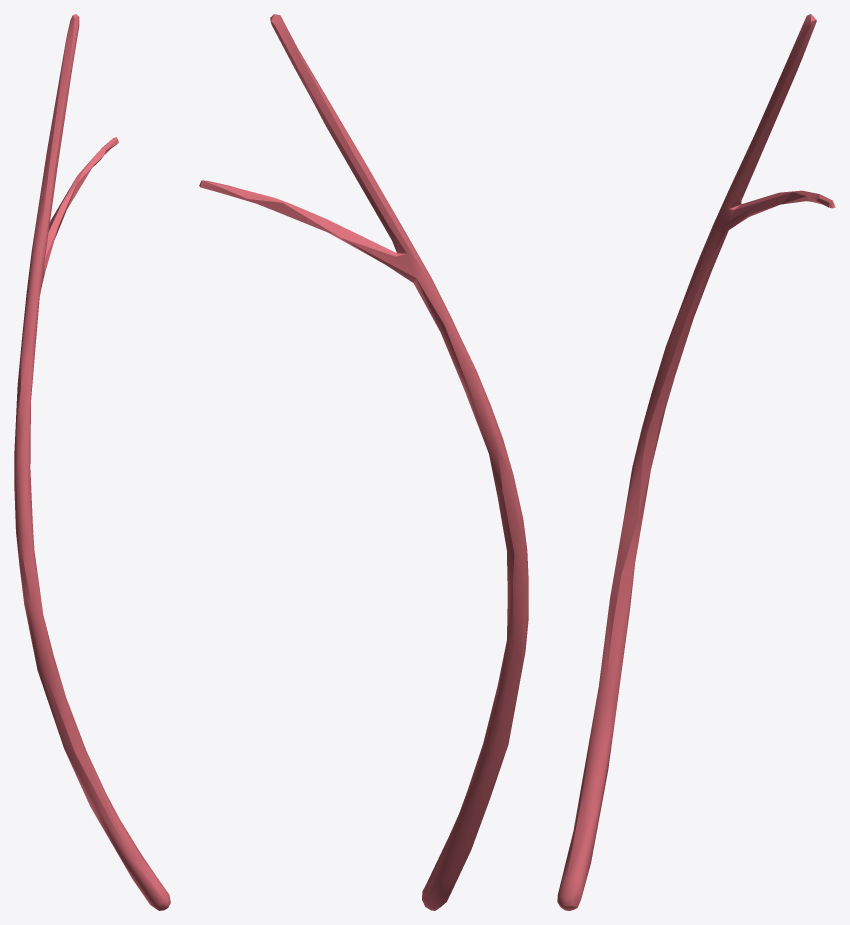
File: fma50664_fj5218.glb
The picture shows the model from 3 angles, left to right: view 1: azimuth 30°, elevation 25°; view 2: azimuth 150°, elevation 25°; view 3: azimuth 270°, elevation 25°; orthographic projection. The views are drawn at different scales.
Parts seen in each view (by area): view 1: FMA50664_FJ5218; view 2: FMA50664_FJ5218; view 3: FMA50664_FJ5218.
Part boxes in pixels (<box>): FMA50664_FJ5218: <box>14,14,170,910</box>; FMA50664_FJ5218: <box>199,14,528,910</box>; FMA50664_FJ5218: <box>557,14,835,910</box>.
Size of the model in its own units: 0.00551 by 0.0232 by 0.00645.
